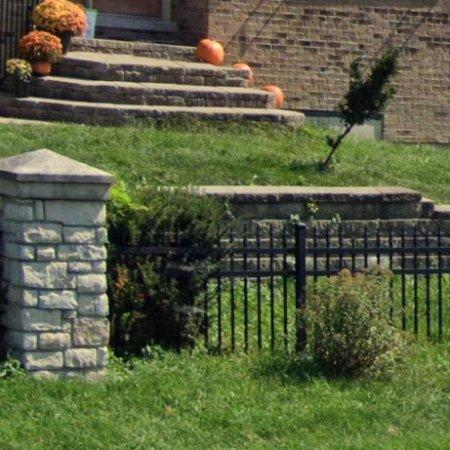stairs: (0, 37, 305, 125)
